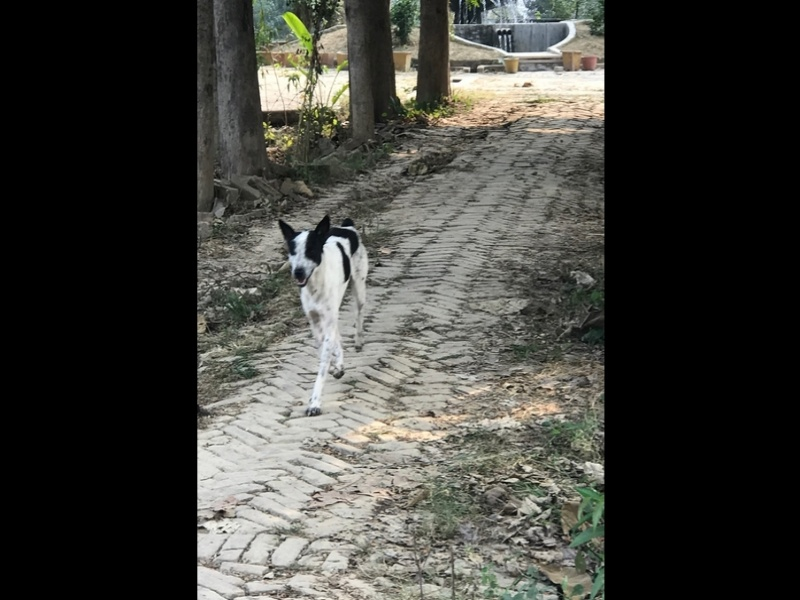dog: (278, 216, 378, 423)
